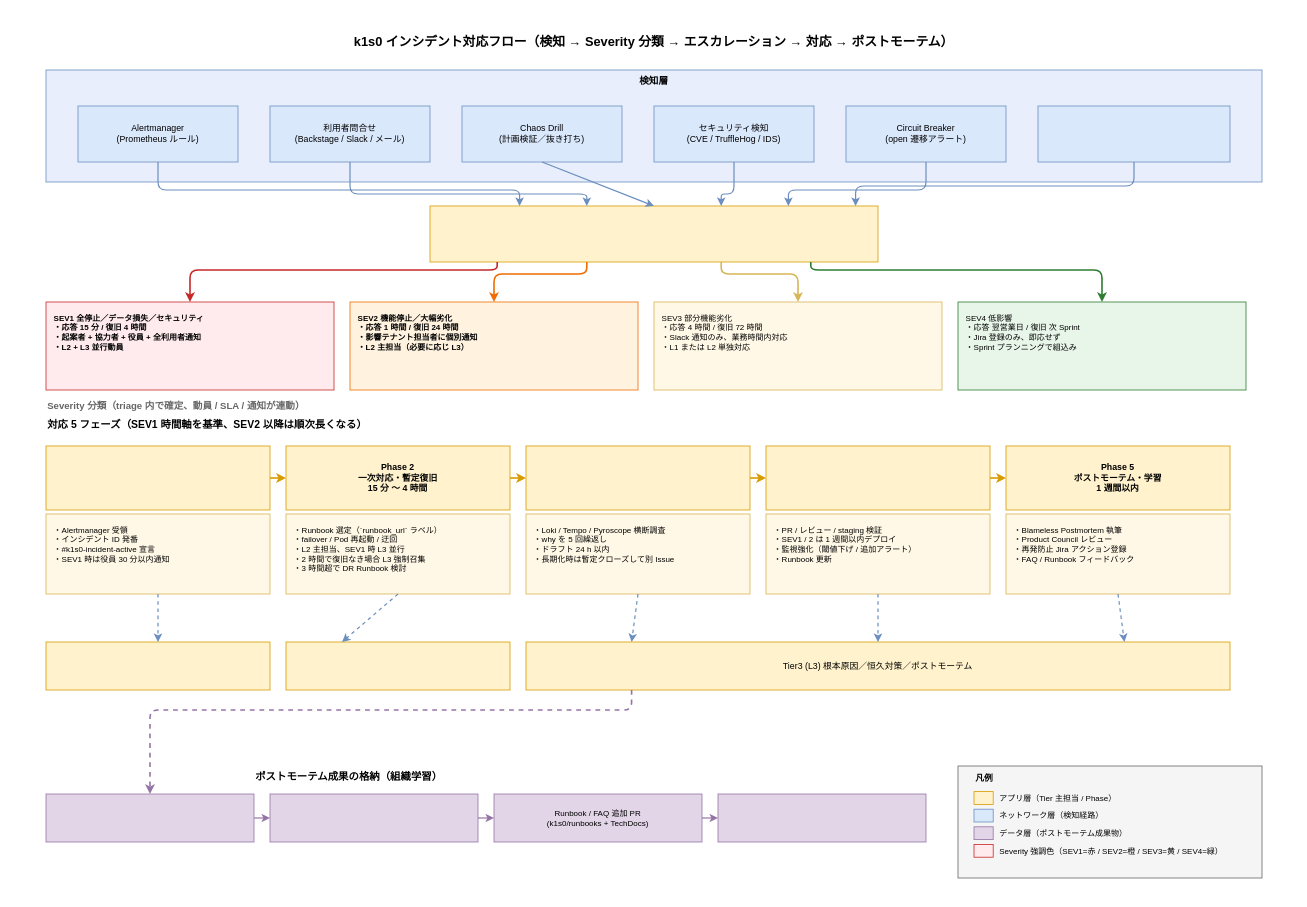
This 1307x907 diagram has some shape labels left out. The shapes that lost their labels are listed below. From the top down, each one's centre as x and y in pixels, then its label:
[1133,133]: 監査ハッシュチェーン 検証ジョブ（四半期）
[653,233]: L1 トリアージ (15 分以内：影響範囲確認 + Severity 暫定判定 + インシデント ID 発番)
[157,477]: Phase 1 検知・トリアージ 0 〜 15 分
[637,477]: Phase 3 根本原因特定 4 〜 24 時間
[877,477]: Phase 4 恒久対策実装 24 時間 〜 1 週間
[157,665]: Tier1 (L1) 受付
[397,665]: Tier2 (L2) 暫定対応
[149,817]: ポストモーテムドキュメント (Backstage TechDocs, 5 年保管)
[373,817]: 再発防止 Jira チケット (技術 / プロセス / 監視強化)
[821,817]: Product Council 月次レビュー (共通パターン / 構造改善)
